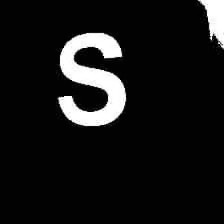LTR_S: (50, 23, 129, 134)
